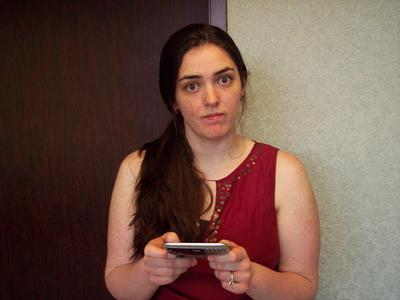person: (106, 22, 321, 300)
